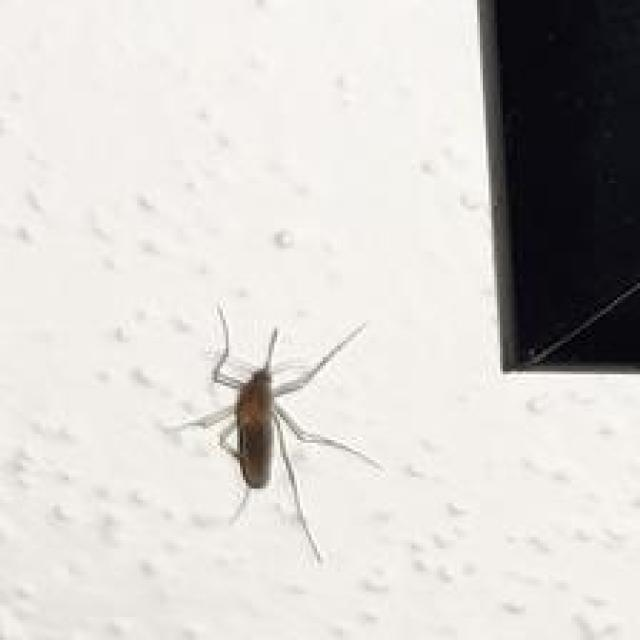Culex: (162, 302, 384, 564)
